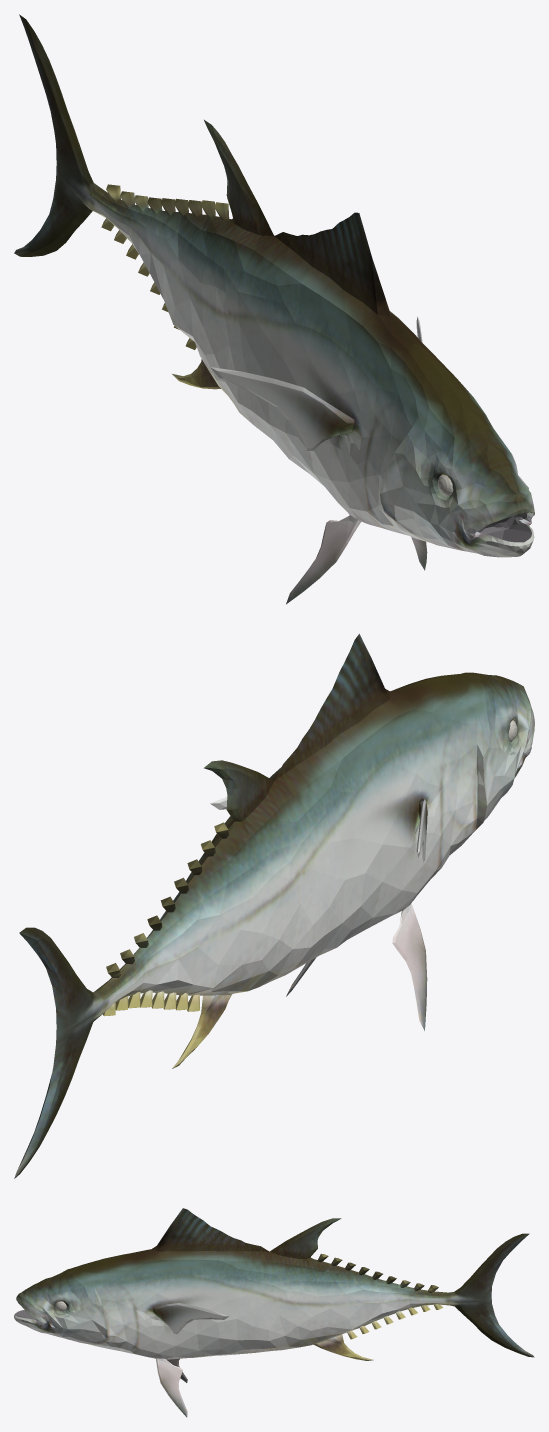
Rendered from fish.obj.
The picture shows the model from 3 angles, top to bottom: view 1: azimuth 30°, elevation 25°; view 2: azimuth 150°, elevation 25°; view 3: azimuth 270°, elevation 25°; orthographic projection. The views are drawn at different scales.
Visible parts, largest first — view 1: tuna_tuna.001; view 2: tuna_tuna.001; view 3: tuna_tuna.001.
Boxes of the visible parts, x1,y1,x2,y2 form: tuna_tuna.001: (14,14,534,604); tuna_tuna.001: (14,633,534,1178); tuna_tuna.001: (14,1208,534,1417).
Size of the model in its own units: 5.78 by 10.04 by 24.62.
Materials: 3 (1 with a texture image).
